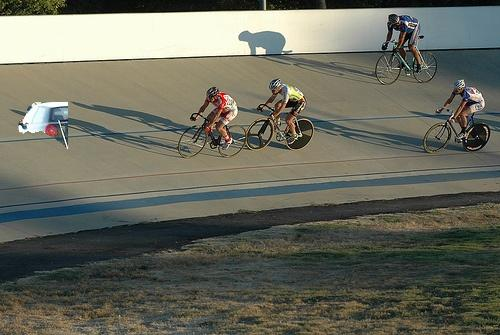tampered: (19, 103, 68, 149)
